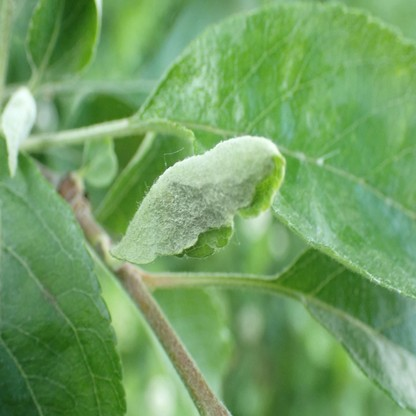powder: (108, 134, 286, 264), (142, 24, 221, 118), (272, 154, 332, 249)
scab: (39, 285, 55, 304)
